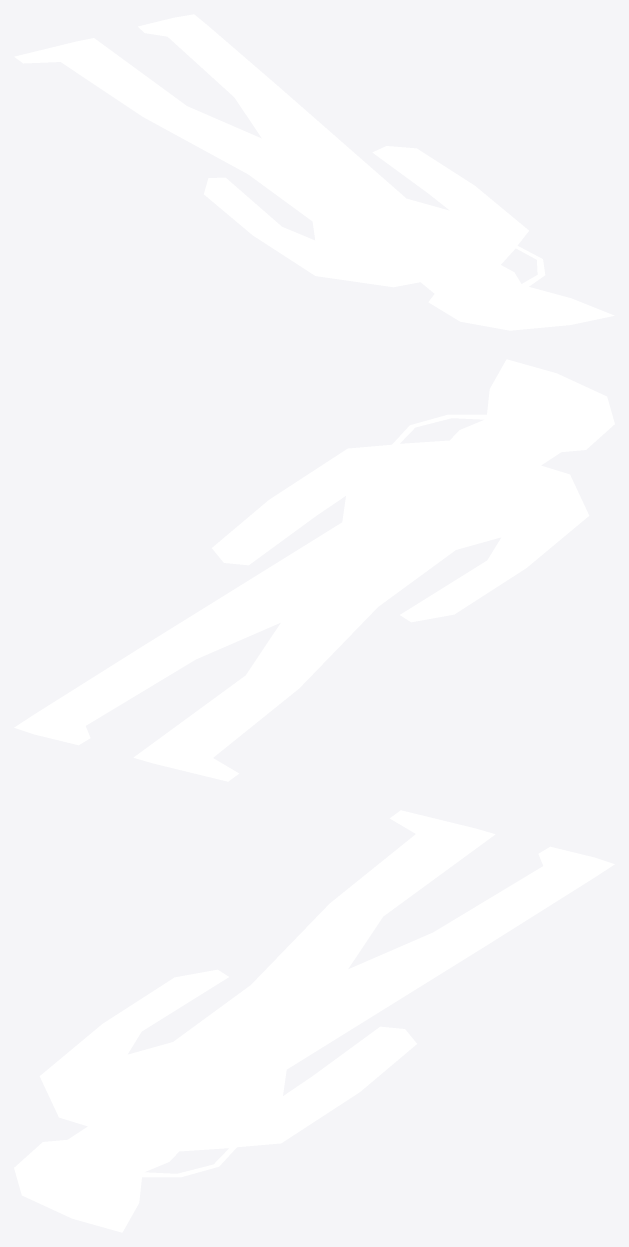
The model's file is fig_vossk.glb.
3 renders of one model, top to bottom at view 1: azimuth 30°, elevation 25°; view 2: azimuth 150°, elevation 25°; view 3: azimuth 330°, elevation 25°, orthographic. The views are drawn at different scales.
Parts seen in each view (by area): view 1: group_13; view 2: group_13; view 3: group_13.
Part boxes in pixels (bbox=[...]): group_13: bbox=[14, 14, 614, 330]; group_13: bbox=[14, 359, 614, 781]; group_13: bbox=[14, 810, 614, 1232].
Bounding box in the file's own units: 162 × 1.19e-13 × 536.
1 material, 1 textured.
